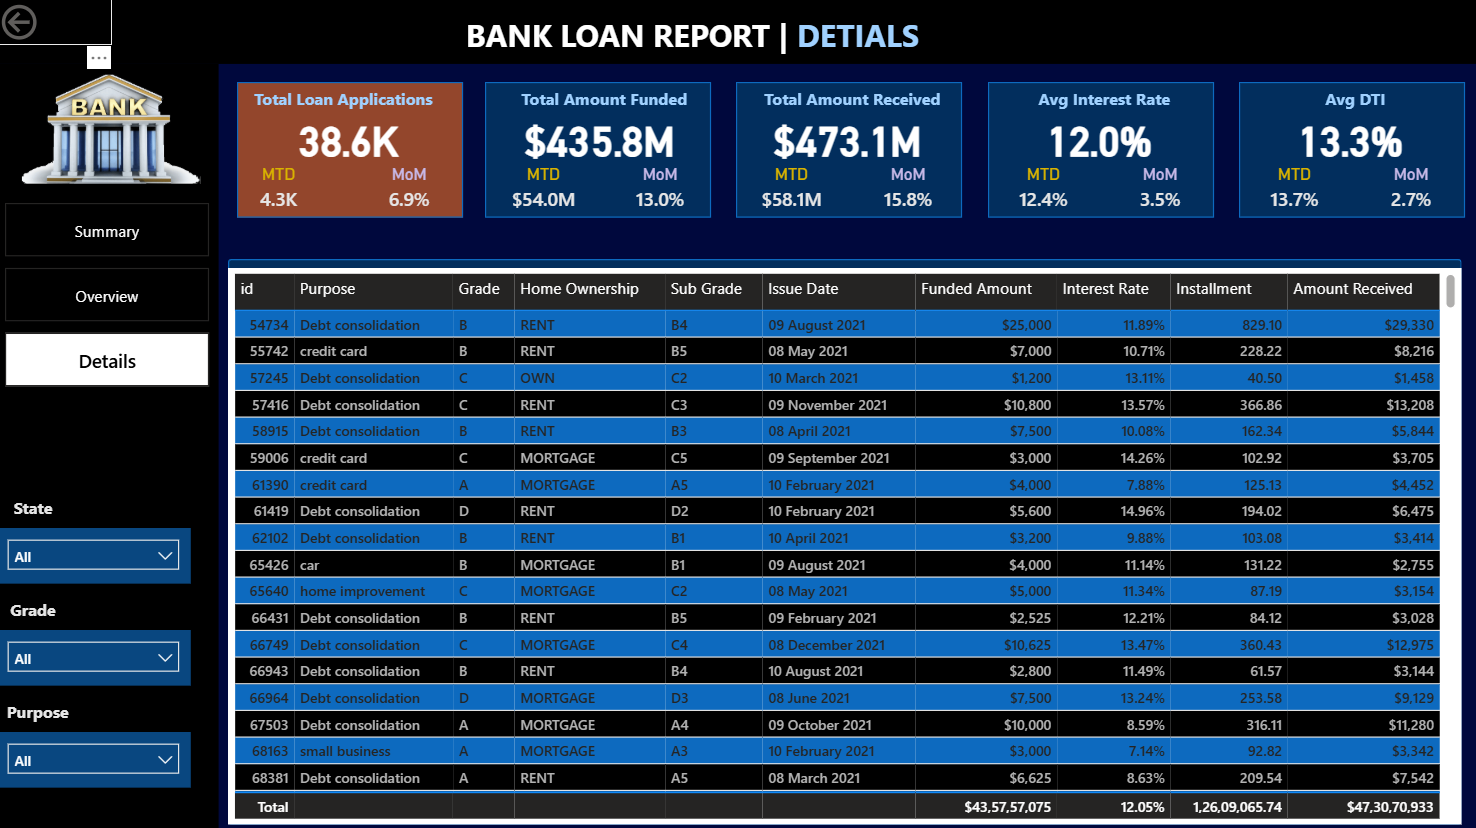

What the dashboard file says about the page in this screenshot:
{"tool":"powerbi","page":{"name":"Details","canvas":[1280,720],"ordinal":2},"visuals":[{"type":"shape","box":[0,56,192,664],"z":0},{"type":"shape","box":[208,72,195,117],"z":0,"group":"g1"},{"type":"shape","box":[638.5,72,195,117],"z":0,"group":"g3"},{"type":"shape","box":[855.2,72,195,117],"z":0,"group":"g4"},{"type":"shape","box":[1072,72,195,117],"z":0,"group":"g5"},{"type":"card","fields":{"Values":["Date Table.Total Funded Amount"]},"box":[424,96,192,48],"z":0,"group":"g2"},{"type":"textbox","box":[440,72,168,32],"z":1000,"group":"g2"},{"type":"card","fields":{"Values":["Finance_loan.Total Loan Applications"]},"box":[208,96,192,48],"z":1000,"group":"g1"},{"type":"card","fields":{"Values":["Finance_loan.Total Amount Received"]},"box":[638.5,96,192,48],"z":1000,"group":"g3"},{"type":"card","fields":{"Values":["Date Table.Average Interest Rate"]},"box":[855.2,96,192,48],"z":1000,"group":"g4"},{"type":"card","fields":{"Values":["Date Table.Avg DTI"]},"box":[1072,96,192,48],"z":1000,"group":"g5"},{"type":"shape","box":[200,224,1064,488],"z":1000},{"type":"shape","box":[0,0,1280,56],"z":2000},{"type":"textbox","box":[216,72,168,32],"z":2000,"group":"g1"},{"type":"textbox","box":[654.5,72,168,32],"z":2000,"group":"g3"},{"type":"textbox","box":[871.2,72,168,32],"z":2000,"group":"g4"},{"type":"textbox","box":[1088,72,168,32],"z":2000,"group":"g5"},{"type":"card","title":"MTD","fields":{"Values":["Date Table.MTD Funded Amount"]},"box":[432,144,80,40],"z":2000,"group":"g2"},{"type":"shape","box":[421.8,72,195,117],"z":3000},{"type":"card","title":"MTD","fields":{"Values":["Date Table.MTD Loan Application"]},"box":[216,144,56,40],"z":3000,"group":"g1"},{"type":"card","title":"MoM","fields":{"Values":["Date Table.MoM Total Amount Funded"]},"box":[528,144,88,40],"z":3000,"group":"g2"},{"type":"card","title":"MTD","fields":{"Values":["Date Table.MTD Total Amount Received"]},"box":[646.5,144,80,40],"z":3000,"group":"g3"},{"type":"card","title":"MTD","fields":{"Values":["Date Table.MTD Average Interest Rate"]},"box":[863.2,144,80,40],"z":3000,"group":"g4"},{"type":"card","title":"MTD","fields":{"Values":["Date Table.MTD Average DTI"]},"box":[1080,144,80,40],"z":3000,"group":"g5"},{"type":"textbox","box":[400,8,448,48],"z":4000},{"type":"card","title":"MoM","fields":{"Values":["Date Table.MoM Loan Application"]},"box":[312,144,88,40],"z":4000,"group":"g1"},{"type":"card","title":"MoM","fields":{"Values":["Date Table.MoM Total Amount Received"]},"box":[742.5,144,88,40],"z":4000,"group":"g3"},{"type":"card","title":"MoM","fields":{"Values":["Date Table.MoM Average Interest Rate"]},"box":[959.2,144,88,40],"z":4000,"group":"g4"},{"type":"card","title":"MoM","fields":{"Values":["Date Table.MoM Average DTI"]},"box":[1176,144,88,40],"z":4000,"group":"g5"},{"type":"group","id":"g1","title":"Group 1","box":[208,72,192,120],"z":5000},{"type":"group","id":"g2","title":"Group 2","box":[424,72,192,112],"z":6000},{"type":"group","id":"g3","title":"Group 3","box":[638.5,72,195,117],"z":7000},{"type":"group","id":"g4","title":"Group 4","box":[855.2,72,195,117],"z":8000},{"type":"group","id":"g5","title":"Group 4","box":[1072,72,192,120],"z":9000},{"type":"actionButton","box":[0,0,100,40],"z":10000},{"type":"slicer","fields":{"Values":["Finance_loan.address_state"]},"box":[0,456,168,48],"z":11000},{"type":"textbox","box":[0,424,64,32],"z":12000},{"type":"slicer","fields":{"Values":["Finance_loan.grade"]},"box":[0,544,168,48],"z":13000},{"type":"textbox","box":[0,512,64,32],"z":14000},{"type":"slicer","fields":{"Values":["Finance_loan.purpose"]},"box":[0,632,168,48],"z":15000},{"type":"textbox","box":[0,600,72,32],"z":16000},{"type":"tableEx","fields":{"Values":["Finance_loan.id","Finance_loan.purpose","Finance_loan.grade","Finance_loan.home_ownership","Finance_loan.sub_grade","Finance_loan.issue_date","Date Table.Total Funded Amount","Date Table.Avg Interest Rate","Sum(Finance_loan.installment)","Finance_loan.Total Amount Received"]},"box":[200,232,1064,480],"z":17000},{"type":"pageNavigator","box":[8,176,176,160],"z":18000},{"type":"image","box":[16,48,160,128],"z":19000}]}

Visuals, with their boxes on the page's 1280x720 design canvas (x1, y1, x2, y2). These are canvas units, not pixel positions in the 1476x828 screenshot, which may show the page scaled, cropped or inside an application window:
shape: 0/56/192/720
shape: 208/72/403/189
shape: 638/72/834/189
shape: 855/72/1050/189
shape: 1072/72/1267/189
card - Date Table.Total Funded Amount: 424/96/616/144
textbox: 440/72/608/104
card - Finance_loan.Total Loan Applications: 208/96/400/144
card - Finance_loan.Total Amount Received: 638/96/830/144
card - Date Table.Average Interest Rate: 855/96/1047/144
card - Date Table.Avg DTI: 1072/96/1264/144
shape: 200/224/1264/712
shape: 0/0/1280/56
textbox: 216/72/384/104
textbox: 654/72/822/104
textbox: 871/72/1039/104
textbox: 1088/72/1256/104
"MTD" card: 432/144/512/184
shape: 422/72/617/189
"MTD" card: 216/144/272/184
"MoM" card: 528/144/616/184
"MTD" card: 646/144/726/184
"MTD" card: 863/144/943/184
"MTD" card: 1080/144/1160/184
textbox: 400/8/848/56
"MoM" card: 312/144/400/184
"MoM" card: 742/144/830/184
"MoM" card: 959/144/1047/184
"MoM" card: 1176/144/1264/184
"Group 1" group: 208/72/400/192
"Group 2" group: 424/72/616/184
"Group 3" group: 638/72/834/189
"Group 4" group: 855/72/1050/189
"Group 4" group: 1072/72/1264/192
actionButton: 0/0/100/40
slicer - Finance_loan.address_state: 0/456/168/504
textbox: 0/424/64/456
slicer - Finance_loan.grade: 0/544/168/592
textbox: 0/512/64/544
slicer - Finance_loan.purpose: 0/632/168/680
textbox: 0/600/72/632
tableEx - Finance_loan.id x Finance_loan.purpose: 200/232/1264/712
pageNavigator: 8/176/184/336
image: 16/48/176/176
